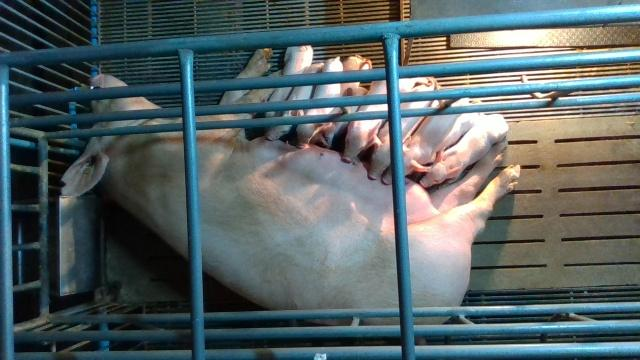piglet: (381, 98, 483, 185), (366, 77, 438, 180), (419, 114, 510, 189), (266, 63, 323, 141), (295, 58, 343, 149), (342, 81, 388, 164), (266, 46, 312, 118)
sow-sleep-lactate: (61, 74, 520, 323)
